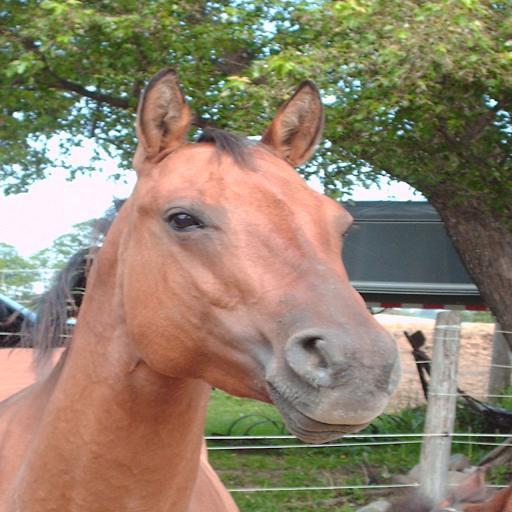horse: (0, 69, 403, 511)
